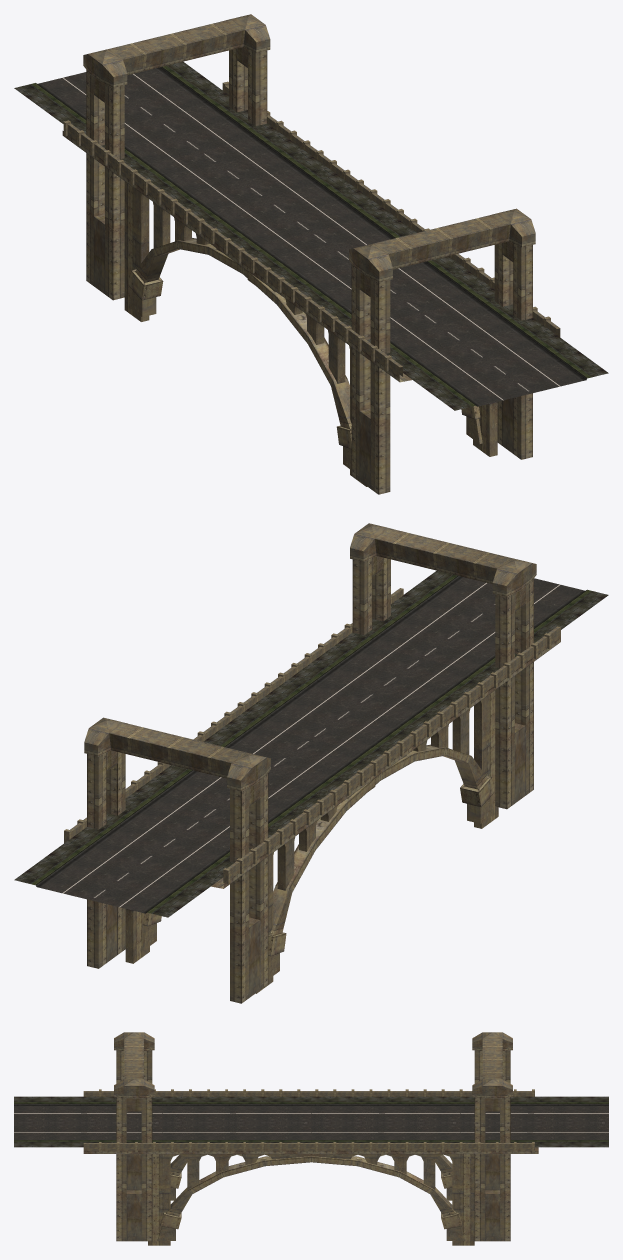
File: Bridge_02.fbx
3 renders of one model, top to bottom at view 1: azimuth 30°, elevation 25°; view 2: azimuth 150°, elevation 25°; view 3: azimuth 270°, elevation 25°, orthographic. The views are drawn at different scales.
Visible parts, largest first — view 1: Bridge_02; view 2: Bridge_02; view 3: Bridge_02.
Part boxes in pixels (box(x1,y1,x2,y2)): Bridge_02: box(14, 14, 608, 494); Bridge_02: box(14, 523, 608, 1003); Bridge_02: box(14, 1032, 608, 1245).
Size of the model in its own units: 1752 by 2542 by 8134.
